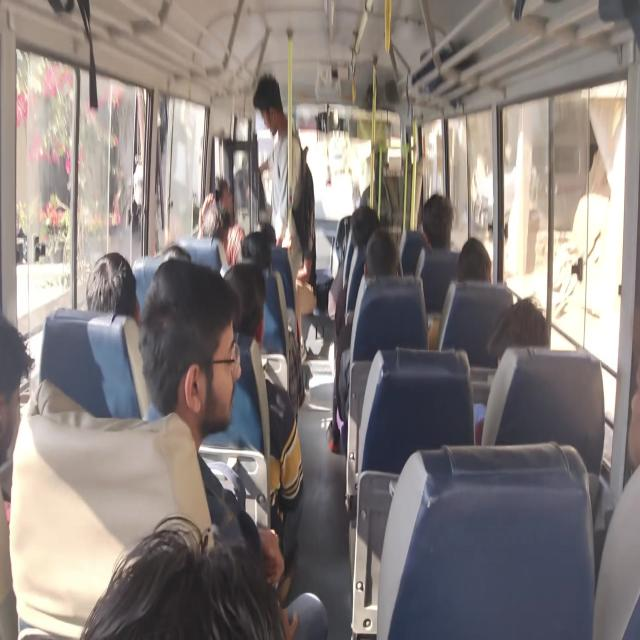person: (92, 479, 261, 640), (147, 260, 236, 424), (75, 234, 141, 332), (0, 324, 42, 474), (216, 260, 268, 348), (484, 297, 543, 362), (617, 358, 640, 518), (368, 237, 410, 309), (407, 197, 460, 251), (452, 230, 492, 291), (195, 192, 232, 250), (249, 68, 281, 135), (346, 205, 380, 253), (208, 169, 243, 209), (244, 232, 268, 282), (163, 236, 188, 272), (246, 210, 274, 241)
